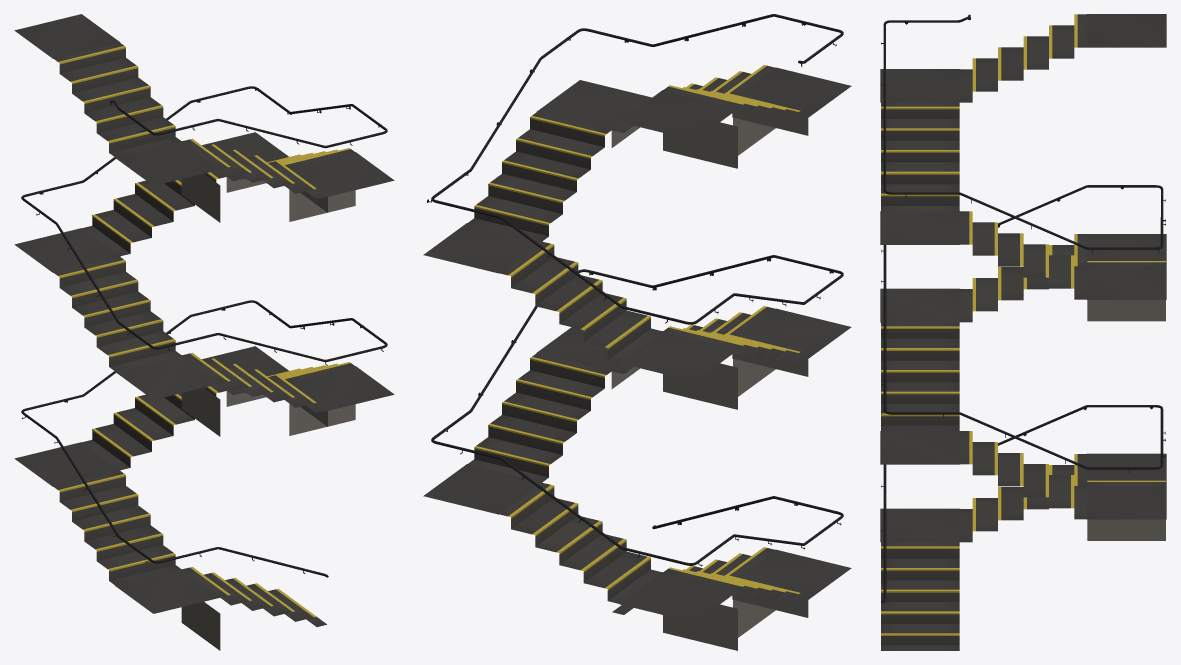
Rendered from spiral_stair.glb.
3 views of the same model, side by side, from view 1: azimuth 30°, elevation 25°; view 2: azimuth 150°, elevation 25°; view 3: azimuth 270°, elevation 25° (orthographic). The views are drawn at different scales.
Visible parts, largest first — view 1: spiral_stair; view 2: spiral_stair; view 3: spiral_stair.
Boxes of the visible parts, left/top/right/bottom form: spiral_stair: left=14, top=14, right=394, bottom=650; spiral_stair: left=423, top=14, right=851, bottom=650; spiral_stair: left=880, top=14, right=1166, bottom=650.
Size of the model in its own units: 4.72 by 10 by 4.72.
